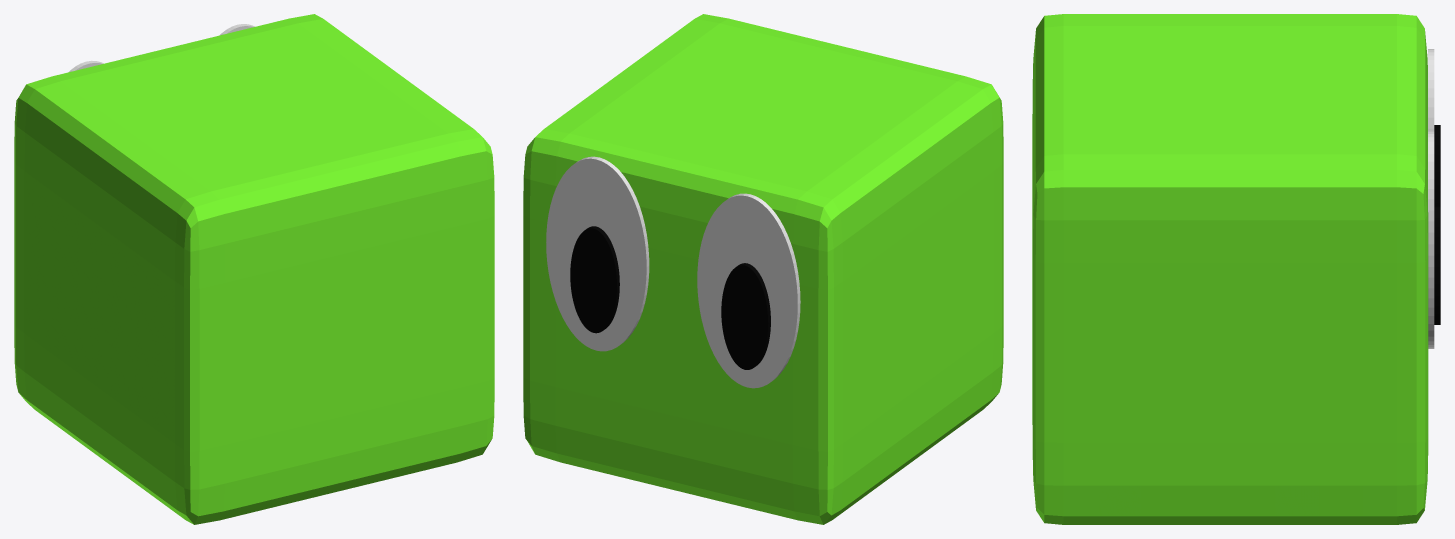
Rendered from player-green.glb.
3 views of the same model, side by side, from view 1: azimuth 30°, elevation 25°; view 2: azimuth 150°, elevation 25°; view 3: azimuth 270°, elevation 25° (orthographic). The views are drawn at different scales.
Parts seen in each view (by area): view 1: player-body; view 2: player-body, player-eye-right-white, player-eye-right-white.001, player-eye-right-black, player-eye-right-black.001; view 3: player-body, player-eye-right-white, player-eye-right-black, player-eye-right-black.001, player-eye-right-white.001.
Boxes of the visible parts, x1,y1,x2,y2 form: player-body: [14, 14, 494, 524]; player-body: [523, 14, 1003, 524]; player-eye-right-white: [546, 156, 649, 351]; player-eye-right-white.001: [697, 193, 800, 388]; player-eye-right-black: [570, 226, 619, 333]; player-eye-right-black.001: [721, 263, 770, 369]; player-body: [1032, 14, 1428, 524]; player-eye-right-white: [1428, 130, 1434, 348]; player-eye-right-black: [1434, 206, 1440, 324]; player-eye-right-black.001: [1434, 125, 1440, 206]; player-eye-right-white.001: [1428, 49, 1434, 130].
Size of the model in its own units: 0.4 by 0.4 by 0.4122.
